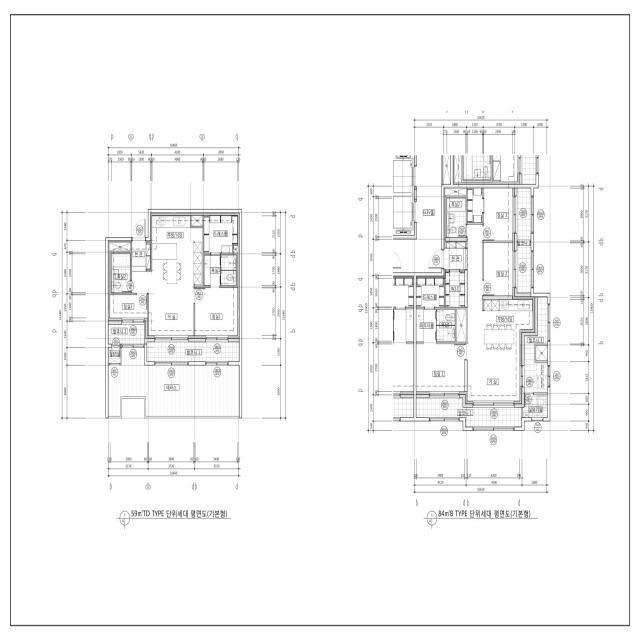space_balconi: (416, 398, 522, 427), (524, 297, 547, 393), (147, 342, 239, 361), (517, 188, 531, 293), (108, 324, 144, 344)
space_bedroom: (416, 344, 465, 394), (195, 288, 239, 338), (484, 243, 515, 296), (484, 188, 514, 241), (108, 295, 147, 321)
space_dressroom: (204, 213, 239, 253), (416, 276, 444, 307), (467, 188, 482, 223)
space_elevator: (393, 194, 414, 235), (393, 155, 414, 194)
space_elevator_hall: (393, 155, 441, 272)
space_front: (444, 241, 466, 270), (132, 241, 151, 272)
space_kitchen: (151, 213, 203, 286), (484, 297, 535, 350)
space_living_room: (465, 224, 522, 404), (132, 272, 194, 338)
space_other: (446, 272, 465, 307), (457, 309, 466, 342), (443, 155, 451, 184), (108, 241, 131, 251), (444, 188, 466, 196), (191, 213, 203, 226), (536, 346, 547, 360), (234, 246, 239, 253)
space_outdoor_room: (523, 395, 547, 417), (108, 348, 120, 363)
space_toilet: (416, 309, 455, 342), (204, 255, 237, 288), (111, 253, 131, 293), (446, 198, 466, 237)
